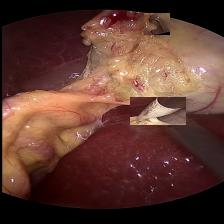Grasper: (143, 14, 169, 36)
Hook: (128, 97, 184, 125)
